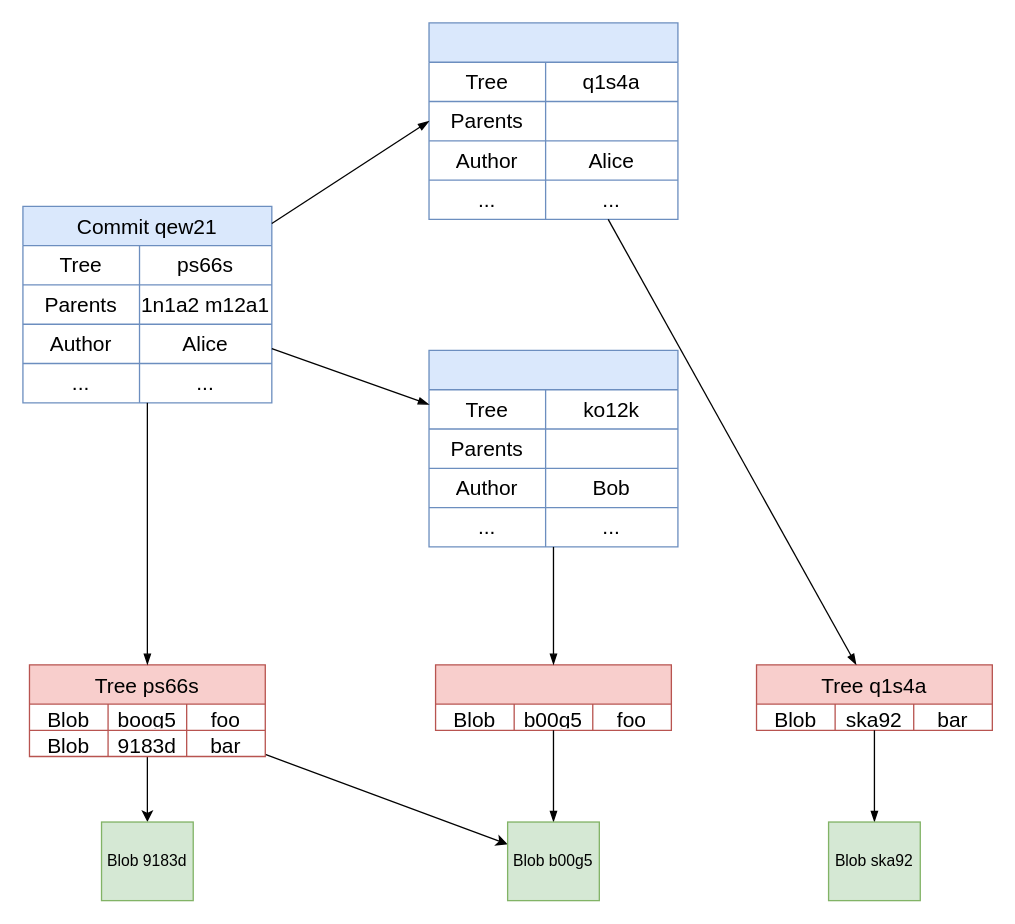
Image size: 1015x924. Some labels were removed from this diagram. Here are the shapes that lost their labels. From the top down, the box of each, then its label:
(428, 22, 678, 219): Commit 1n1a2
(428, 349, 678, 547): Commit m12a1
(434, 664, 671, 730): Tree ko12k
